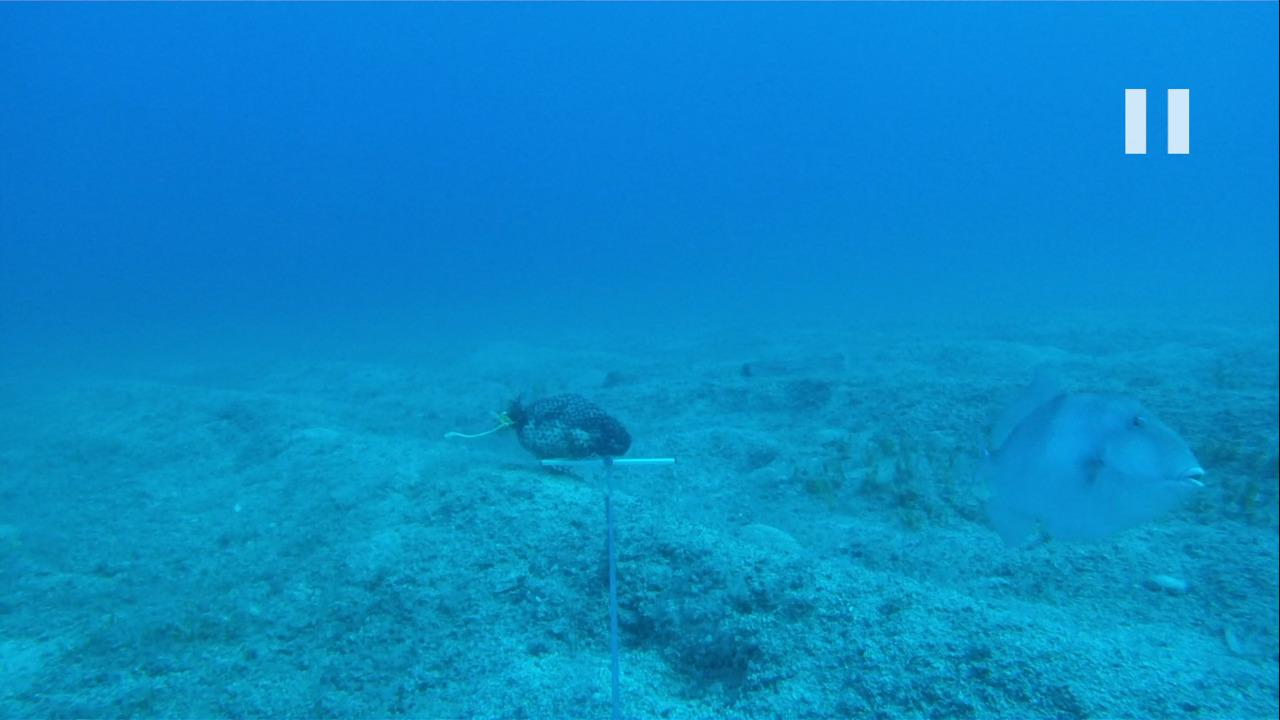balistes: (930, 357, 1210, 556)
dactylopterus: (728, 342, 890, 395)
